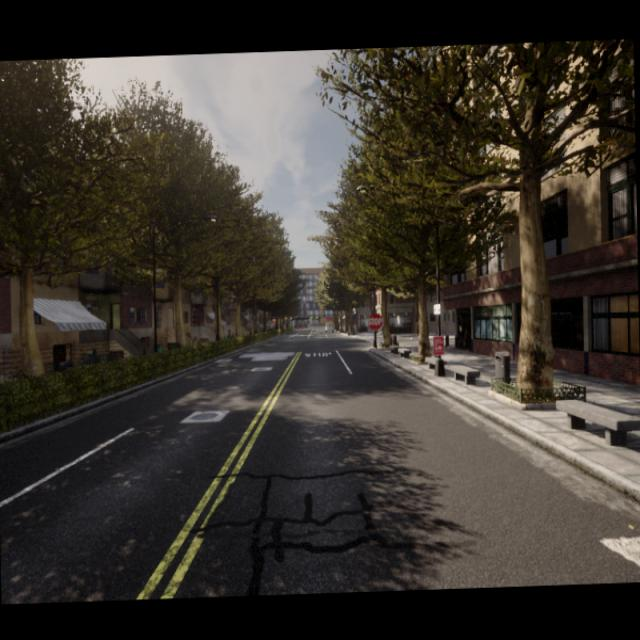stop sign: (365, 307, 385, 348), (366, 310, 384, 332)
